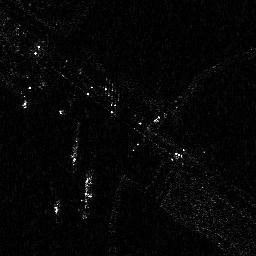ship: (82, 170, 94, 220), (69, 135, 78, 172)
